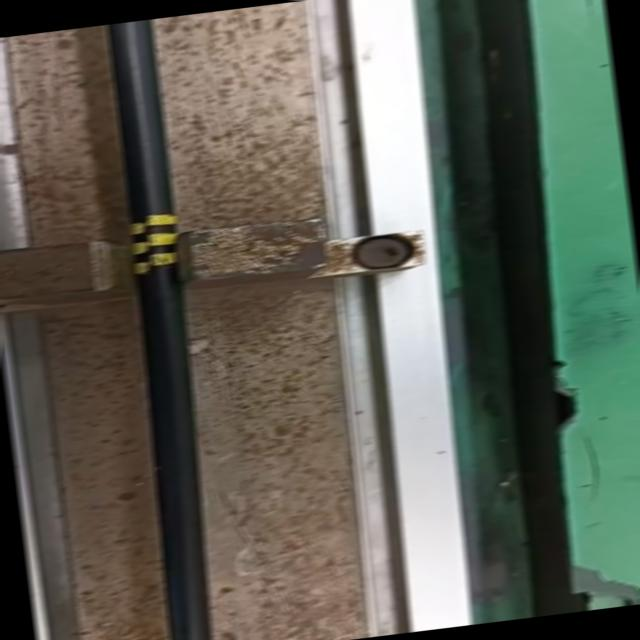yellow: (126, 210, 180, 271)
